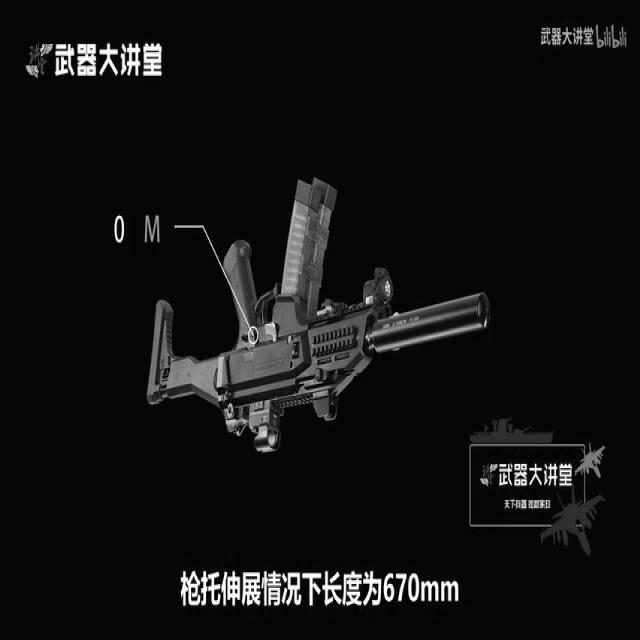Rifle: (102, 140, 527, 545)
